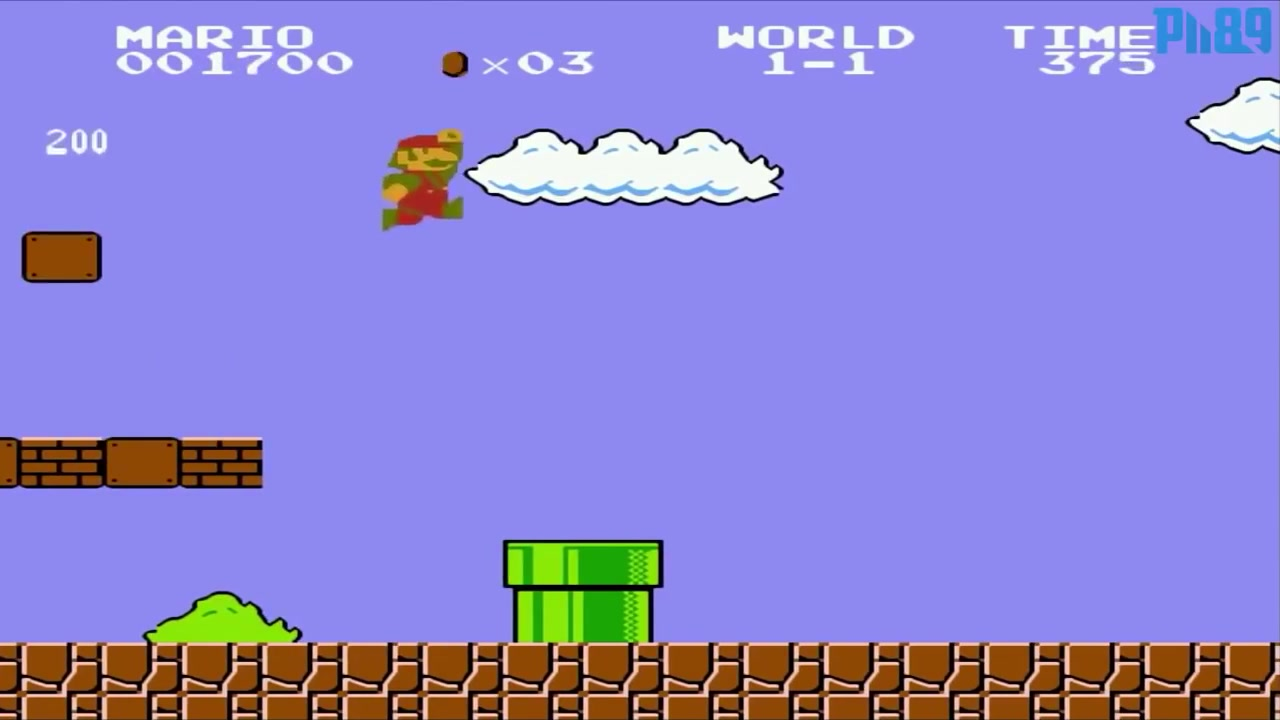mario: (372, 127, 469, 237)
